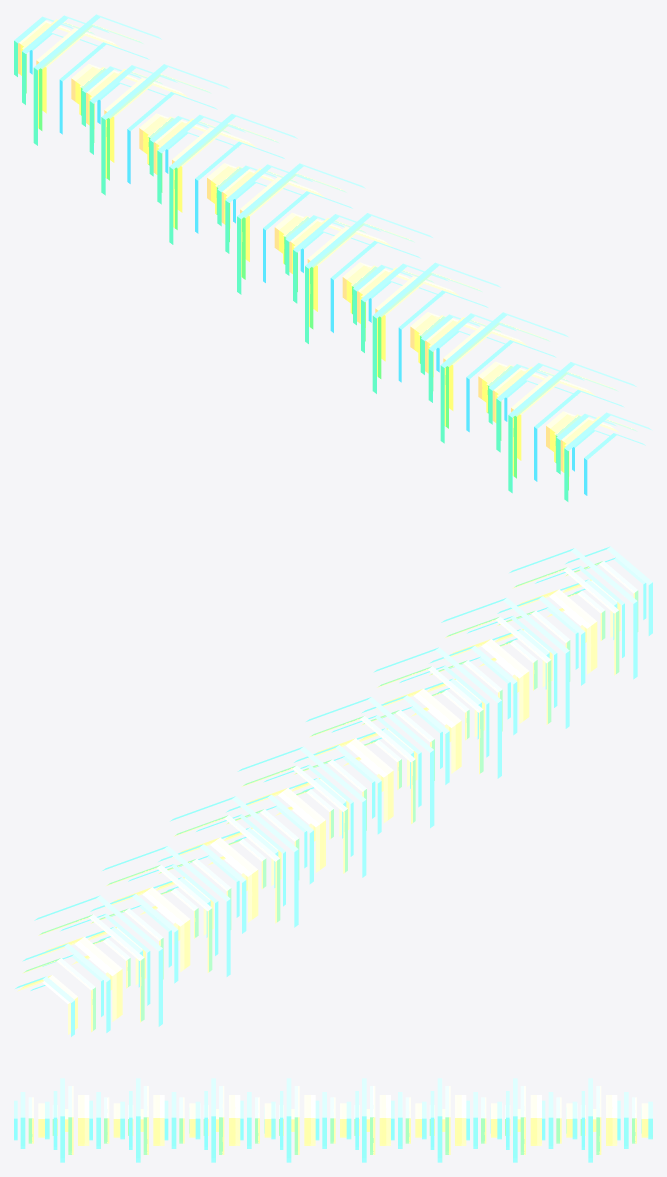
File: hx_a_hexagons_306.glb
The picture shows the model from 3 angles, top to bottom: view 1: azimuth 30°, elevation 25°; view 2: azimuth 150°, elevation 25°; view 3: azimuth 270°, elevation 25°; orthographic projection. The views are drawn at different scales.
Visible parts, largest first — view 1: hex_rings_x9; view 2: hex_rings_x9; view 3: hex_rings_x9.
Boxes of the visible parts, x1,y1,x2,y2 form: hex_rings_x9: [14, 14, 652, 501]; hex_rings_x9: [15, 546, 652, 1036]; hex_rings_x9: [14, 1078, 652, 1162].
Bounding box in the file's own units: 10.65 × 12.3 × 84.74.
